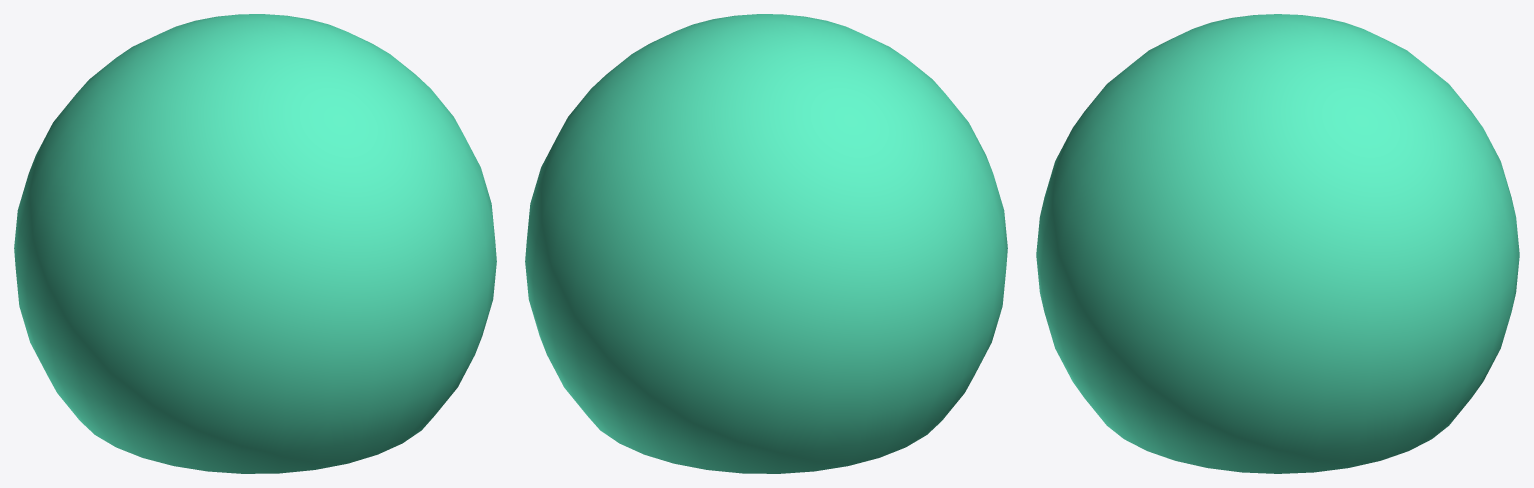
File: shield.glb
3 views of the same model, side by side, from view 1: azimuth 30°, elevation 25°; view 2: azimuth 150°, elevation 25°; view 3: azimuth 270°, elevation 25° (orthographic).
Parts seen in each view (by area): view 1: shield; view 2: shield; view 3: shield.
Part boxes in pixels (<box>): shield: <box>14,14,496,473</box>; shield: <box>525,14,1007,473</box>; shield: <box>1036,14,1519,473</box>.
Bounding box in the file's own units: 1.9 × 1.56 × 1.9.
